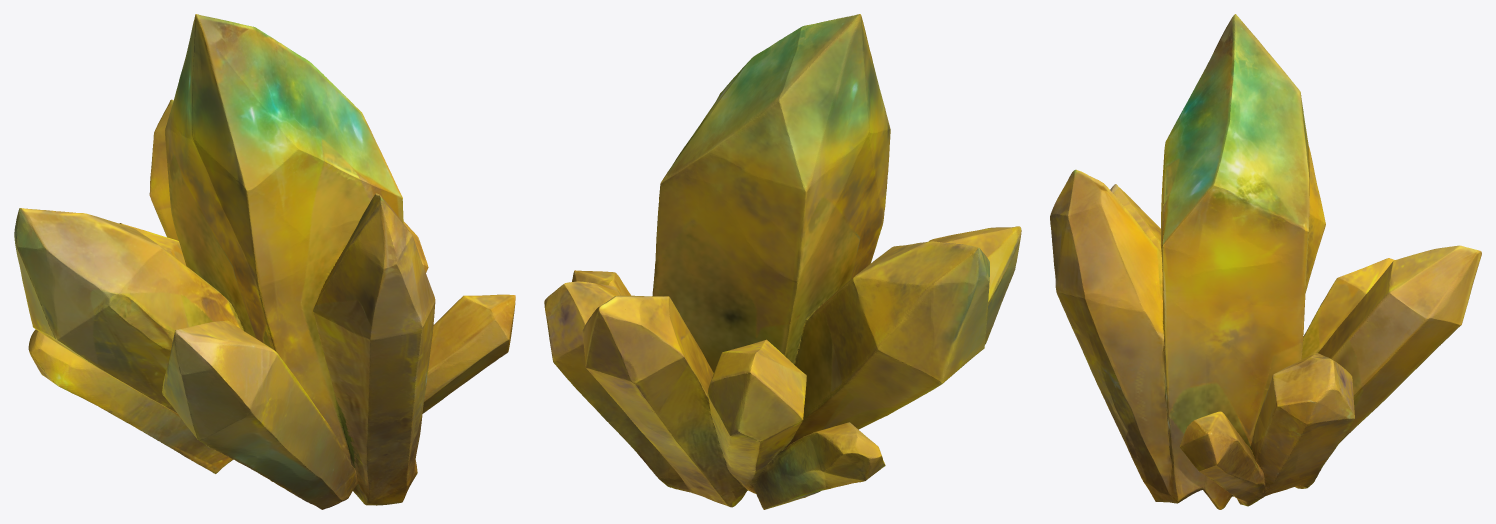
Rendered from create_a_glowing_frag_0429072139_texture.fbx.
3 renders of one model, left to right at view 1: azimuth 30°, elevation 25°; view 2: azimuth 150°, elevation 25°; view 3: azimuth 270°, elevation 25°, orthographic. The views are drawn at different scales.
Parts seen in each view (by area): view 1: temp; view 2: temp; view 3: temp.
Boxes of the visible parts, left/top/right/bottom form: temp: left=14, top=14, right=515, bottom=509; temp: left=544, top=14, right=1021, bottom=509; temp: left=1050, top=14, right=1481, bottom=509.
Size of the model in its own units: 190 by 197 by 181.
1 material, 1 textured.
